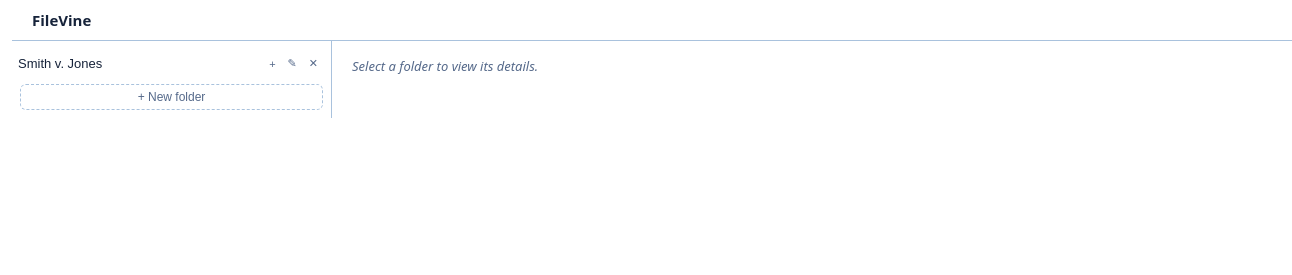
FileVineView › 047 AC4: associates a selected folder with a persona as its client
Click the button "Smith v. Jones". click: (138, 64)
box: x1=12 y1=53 x2=264 y2=74
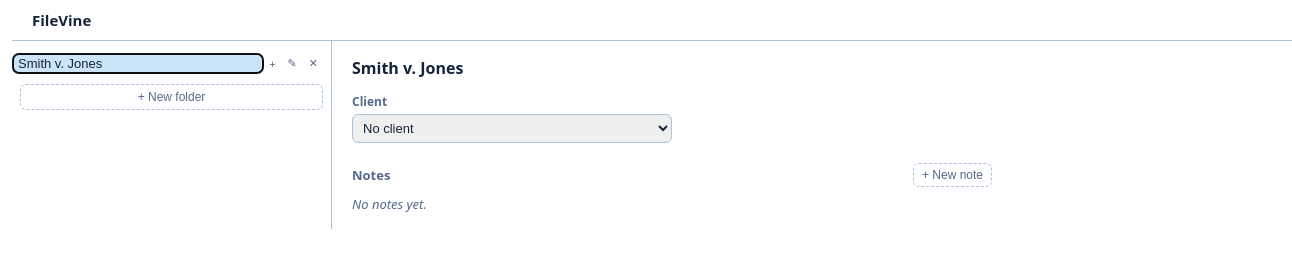
Select "Morgan Rivera" in the dropdown labelled "Client". click: (512, 128)
box: x1=352 y1=114 x2=672 y2=143
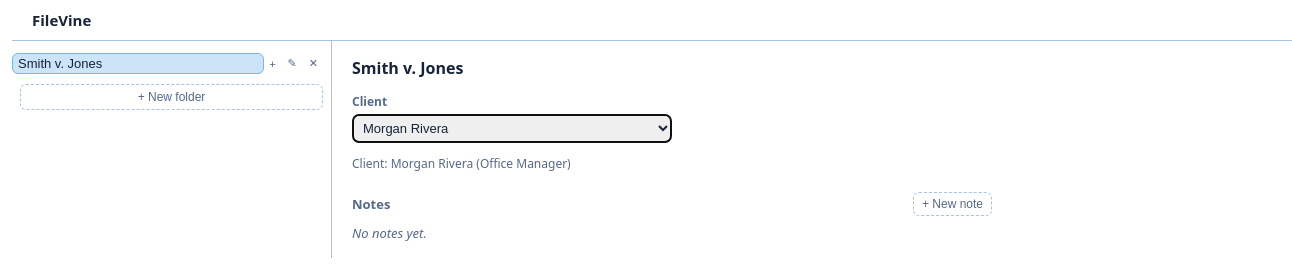
Check: the text "Client: Morgan Rivera (Office Manager)" is shown, box x1=352 y1=155 x2=571 y2=172
